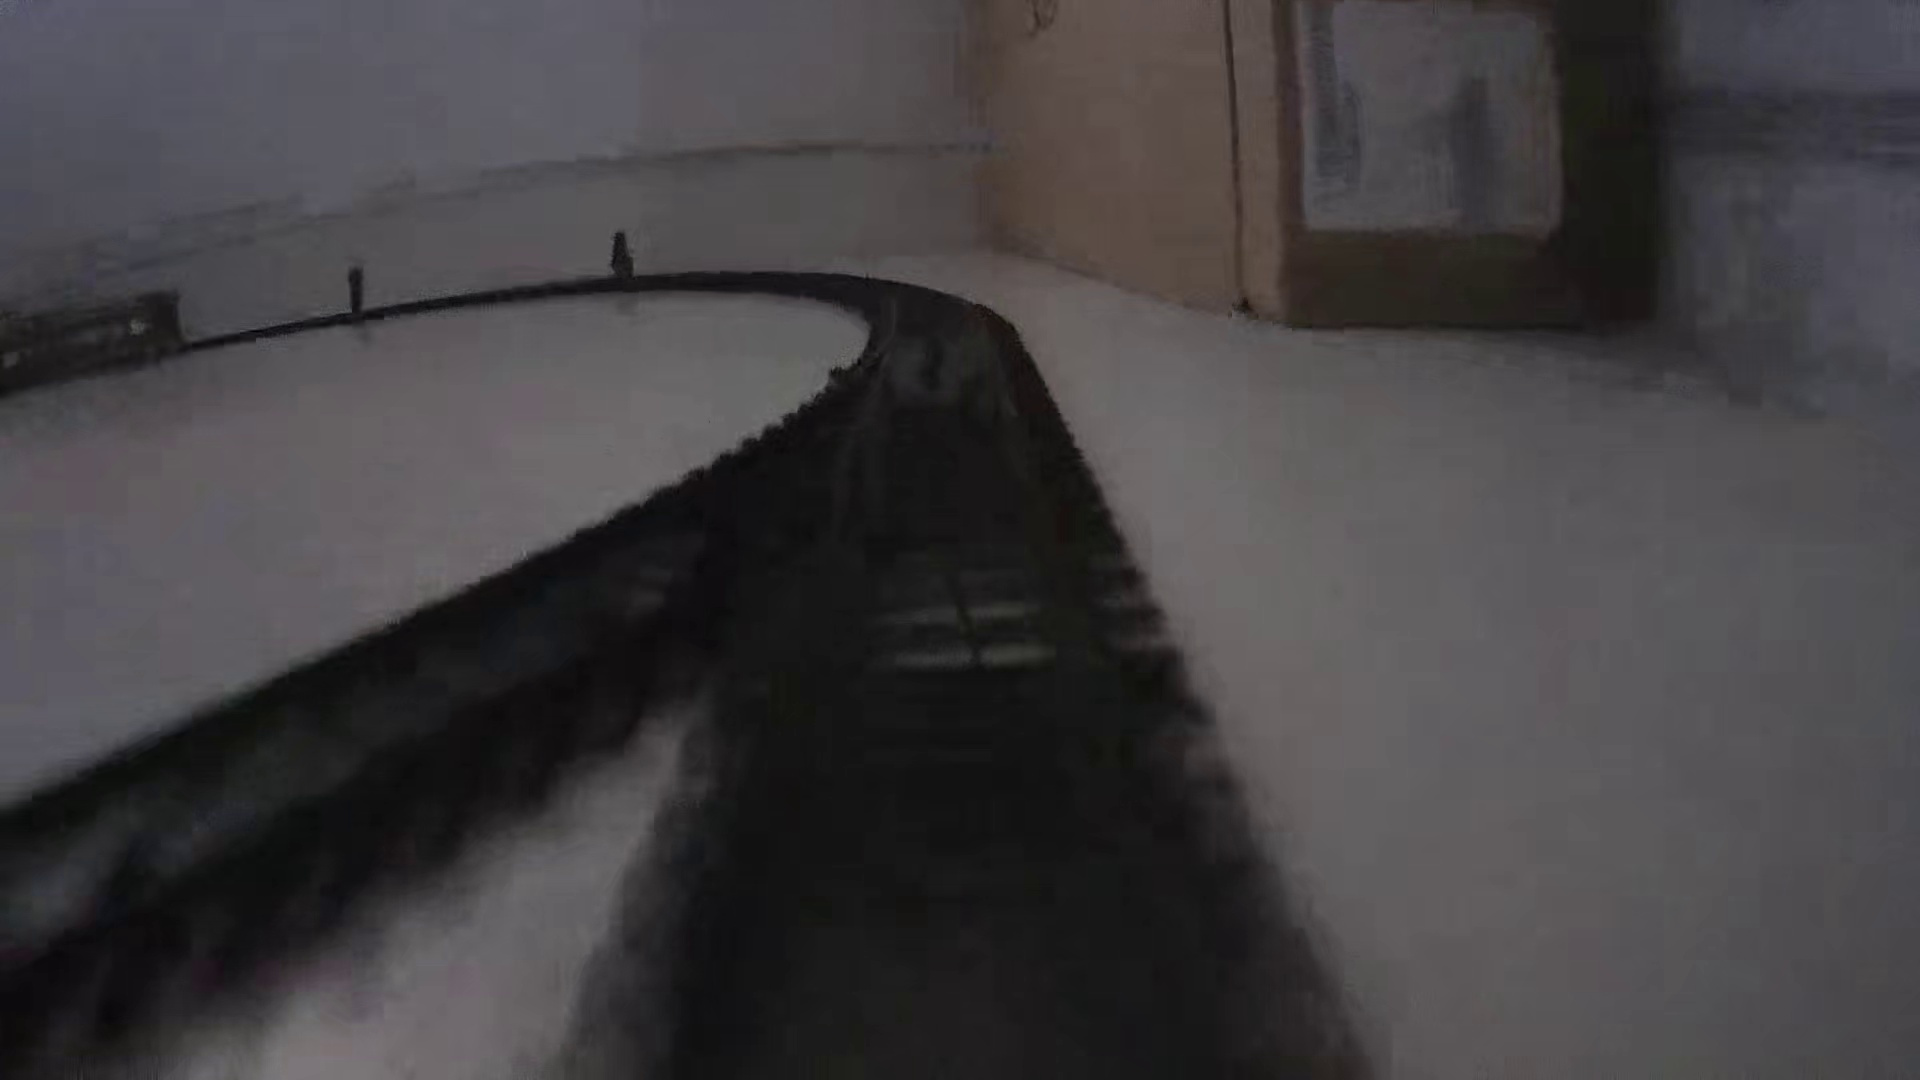people: (607, 227, 636, 288), (346, 263, 370, 319)
